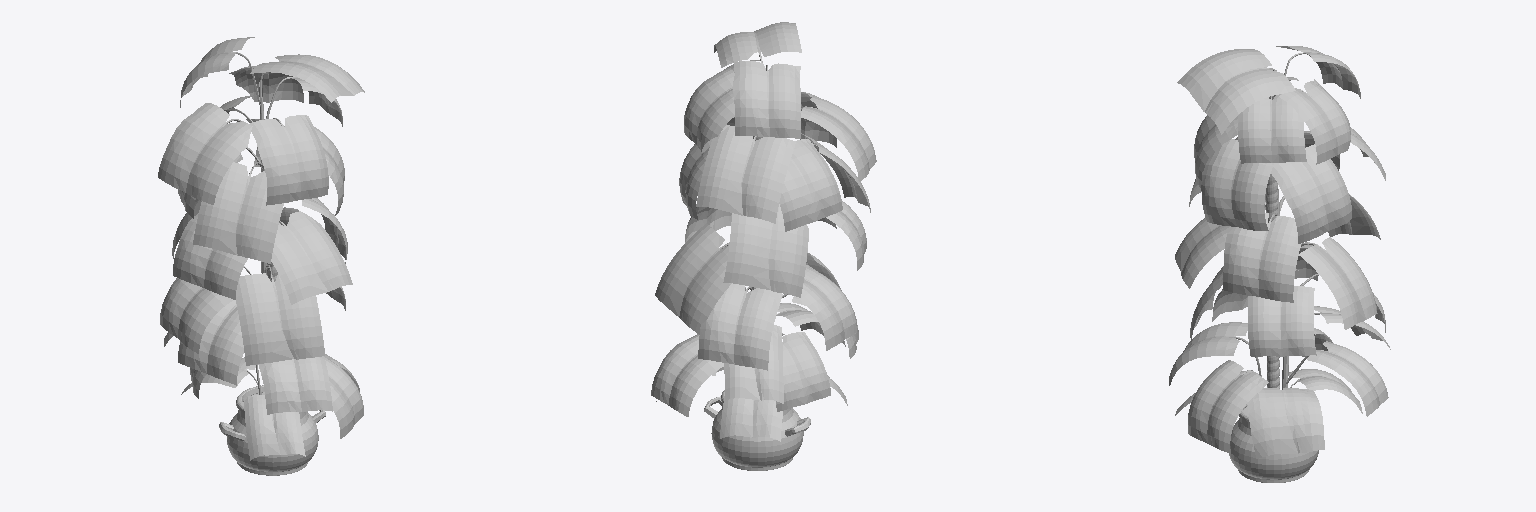
Rendered from Plant 4 N060819.obj.
3 views of the same model, side by side, from view 1: azimuth 30°, elevation 25°; view 2: azimuth 150°, elevation 25°; view 3: azimuth 270°, elevation 25° (orthographic).
Visible parts, largest first — view 1: arch75_006_001, arch75_006_004, arch75_006_003; view 2: arch75_006_001, arch75_006_004, arch75_006_003; view 3: arch75_006_001, arch75_006_004, arch75_006_003, arch75_006_002.
Boxes of the visible parts, <box> form: arch75_006_001: <box>158,37,364,460</box>; arch75_006_004: <box>219,385,325,475</box>; arch75_006_003: <box>181,52,350,429</box>; arch75_006_001: <box>651,22,876,441</box>; arch75_006_004: <box>704,390,810,470</box>; arch75_006_003: <box>675,32,863,409</box>; arch75_006_001: <box>1169,46,1390,458</box>; arch75_006_004: <box>1229,404,1318,482</box>; arch75_006_003: <box>1191,52,1371,422</box>; arch75_006_002: <box>1244,174,1279,413</box>.
Bounding box in the file's own units: 37.42 × 77.39 × 37.88.